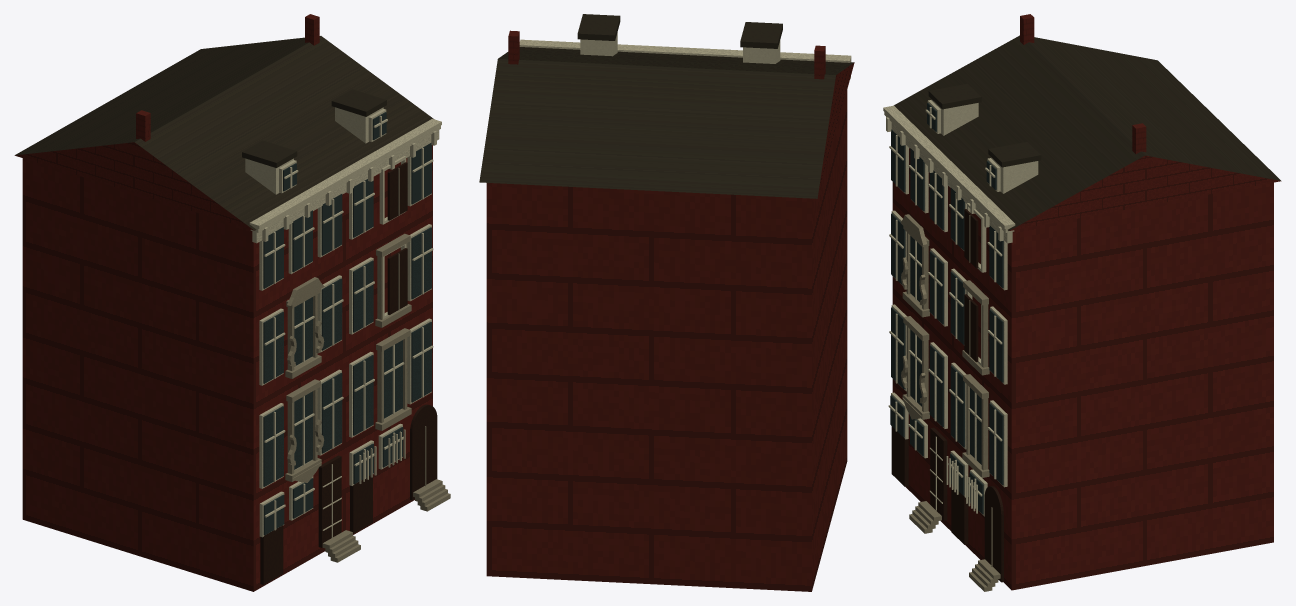
3 views of the same model, side by side, from view 1: azimuth 30°, elevation 25°; view 2: azimuth 150°, elevation 25°; view 3: azimuth 270°, elevation 25° (orthographic). The views are drawn at different scales.
Visible parts, largest first — view 1: nieuwehaven71-73-0, nieuwehaven71-73-1, nieuwehaven71-73-5, nieuwehaven71-73-2, nieuwehaven71-73-4, nieuwehaven71-73-3; view 2: nieuwehaven71-73-0, nieuwehaven71-73-1, nieuwehaven71-73-2; view 3: nieuwehaven71-73-0, nieuwehaven71-73-1, nieuwehaven71-73-2, nieuwehaven71-73-5, nieuwehaven71-73-3, nieuwehaven71-73-4.
Boxes of the visible parts, x1=… form: nieuwehaven71-73-0: x1=14, y1=14, x2=432, y2=591; nieuwehaven71-73-1: x1=15, y1=36, x2=433, y2=230; nieuwehaven71-73-5: x1=263, y1=112, x2=431, y2=535; nieuwehaven71-73-2: x1=245, y1=107, x2=441, y2=537; nieuwehaven71-73-4: x1=260, y1=162, x2=437, y2=584; nieuwehaven71-73-3: x1=285, y1=168, x2=450, y2=562; nieuwehaven71-73-0: x1=486, y1=30, x2=854, y2=591; nieuwehaven71-73-1: x1=479, y1=14, x2=853, y2=198; nieuwehaven71-73-2: x1=519, y1=32, x2=851, y2=79; nieuwehaven71-73-0: x1=892, y1=14, x2=1281, y2=590; nieuwehaven71-73-1: x1=894, y1=35, x2=1280, y2=230; nieuwehaven71-73-2: x1=883, y1=99, x2=1038, y2=516; nieuwehaven71-73-5: x1=890, y1=103, x2=1003, y2=514; nieuwehaven71-73-3: x1=900, y1=214, x2=1000, y2=591; nieuwehaven71-73-4: x1=891, y1=209, x2=1003, y2=582.
Size of the model in its own units: 16.98 by 20.25 by 16.74.
Materials: 6 (6 with a texture image).
